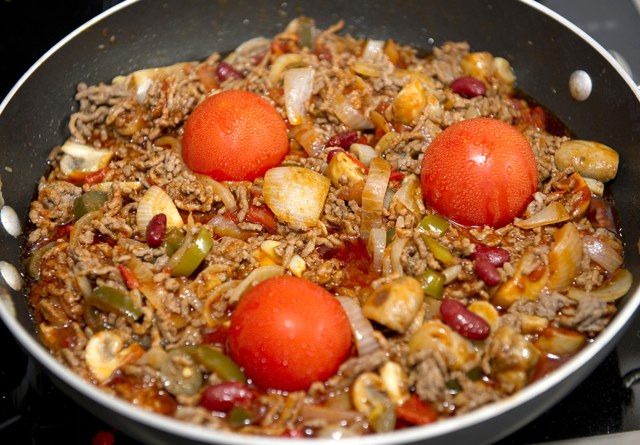tomato: (226, 275, 354, 391), (417, 115, 539, 229), (183, 88, 290, 183)
